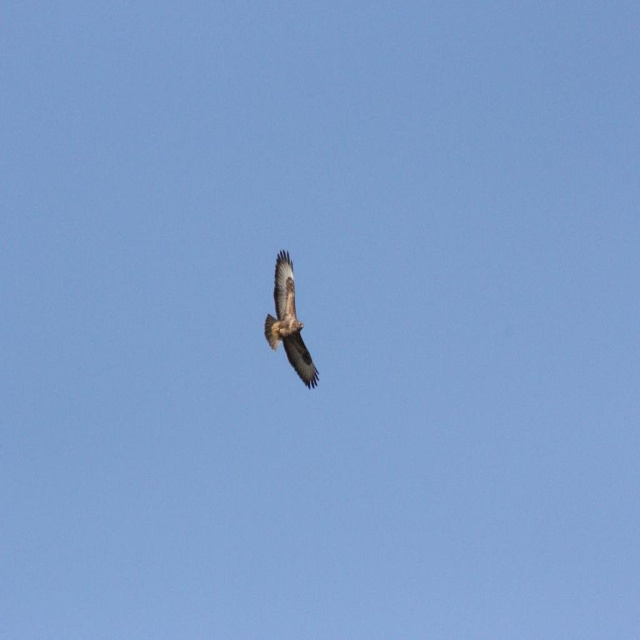Eagle: (263, 248, 322, 388)
